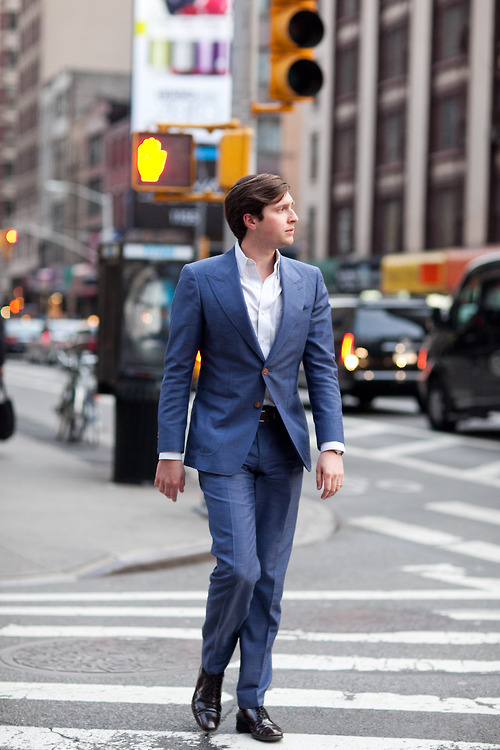Person: (150, 172, 346, 745)
